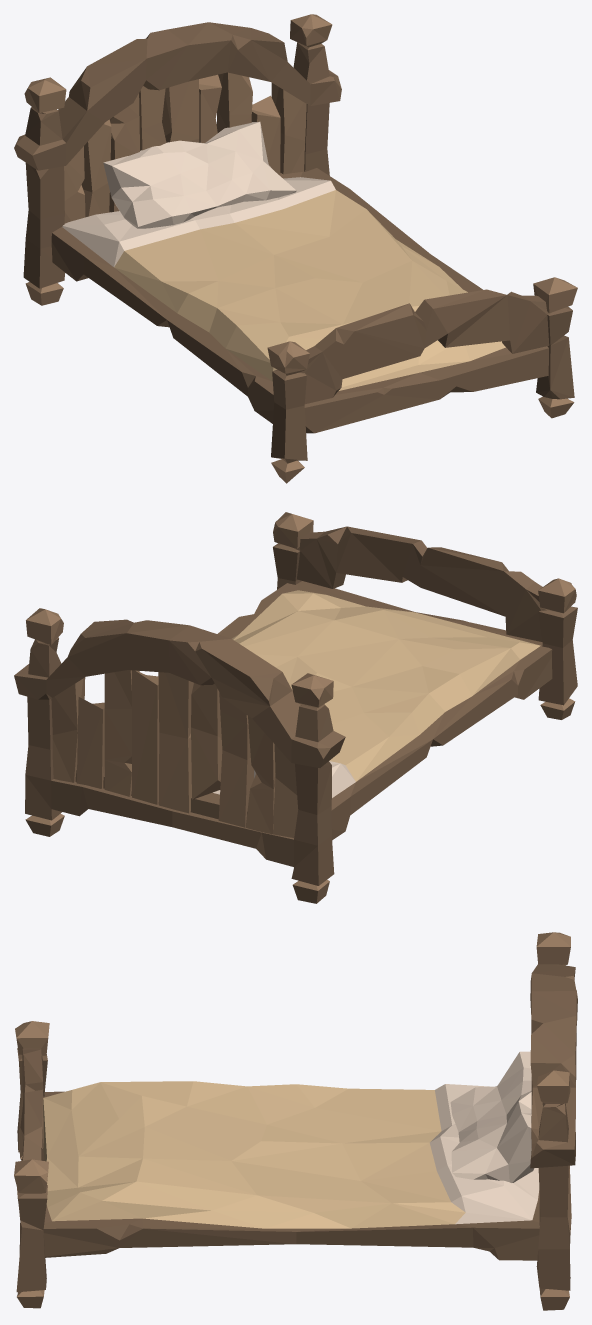
The model's file is CaptainBed_White.fbx.
3 renders of one model, top to bottom at view 1: azimuth 30°, elevation 25°; view 2: azimuth 150°, elevation 25°; view 3: azimuth 270°, elevation 25°, orthographic. The views are drawn at different scales.
Parts seen in each view (by area): view 1: CaptainBed_White; view 2: CaptainBed_White; view 3: CaptainBed_White.
Part boxes in pixels (bbox=[...]): CaptainBed_White: bbox=[14, 14, 577, 483]; CaptainBed_White: bbox=[14, 512, 577, 903]; CaptainBed_White: bbox=[14, 932, 577, 1310].
Size of the model in its own units: 4.1 by 2.94 by 6.03.
